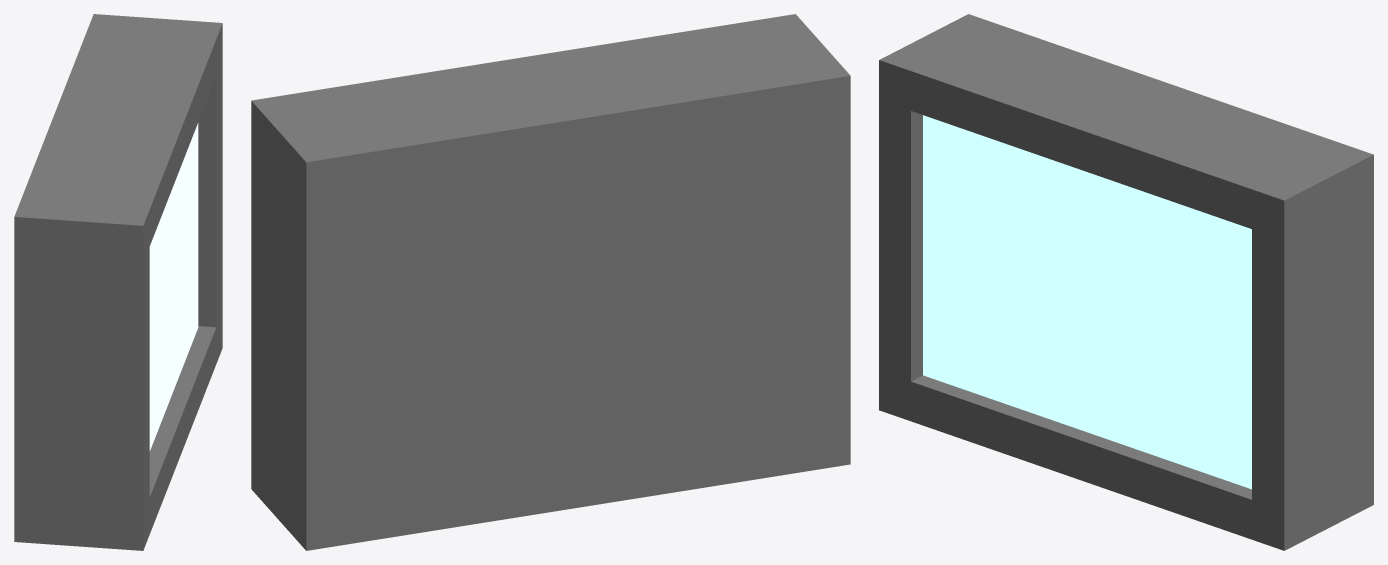
3 views of the same model, side by side, from view 1: azimuth 30°, elevation 25°; view 2: azimuth 150°, elevation 25°; view 3: azimuth 270°, elevation 25° (orthographic). The views are drawn at different scales.
Parts seen in each view (by area): view 1: polySurface108; view 2: polySurface108; view 3: polySurface108.
Part boxes in pixels (x1=…): polySurface108: x1=14, y1=14, x2=222, y2=550; polySurface108: x1=251, y1=14, x2=850, y2=550; polySurface108: x1=879, y1=14, x2=1373, y2=550.
Bounding box in the file's own units: 0.0313 × 0.0274 × 0.0351.
